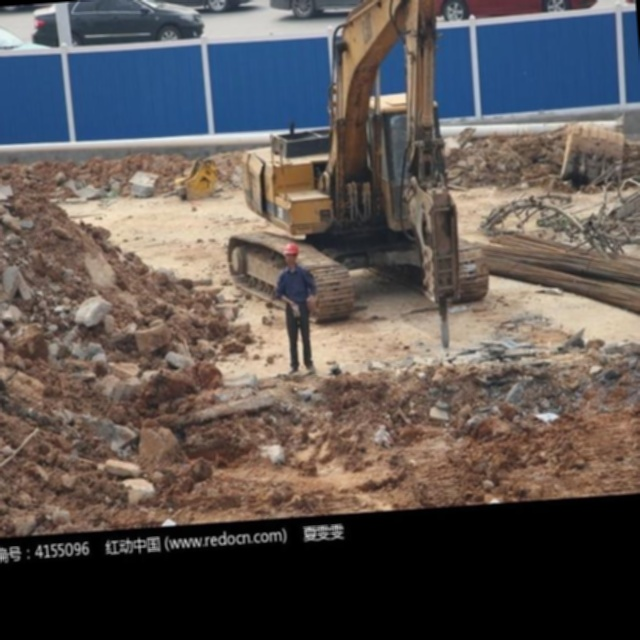Con_Casco: (282, 242, 300, 266)
Sin_Chaleco: (282, 266, 312, 312)
